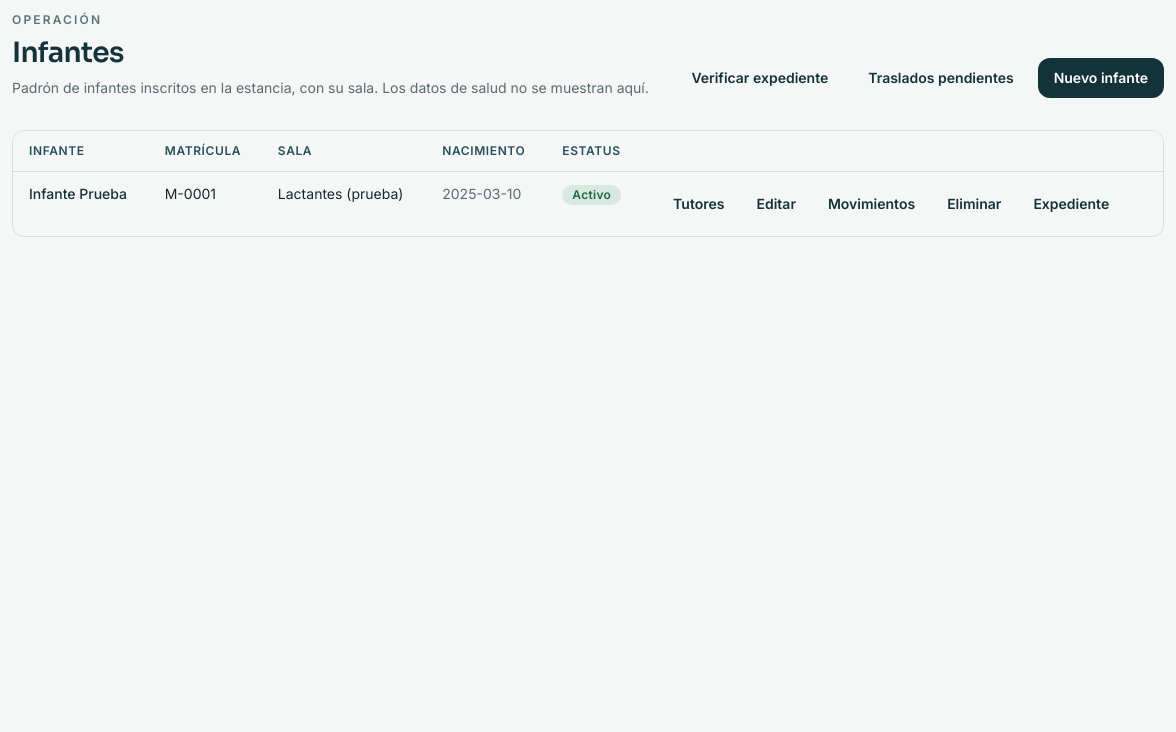
Test case: expediente para traslados (RF-19) › pide folio y sello antes de enviar
Step 1. Click the button "Verificar expediente" → (760, 78), box [675,58,844,98]
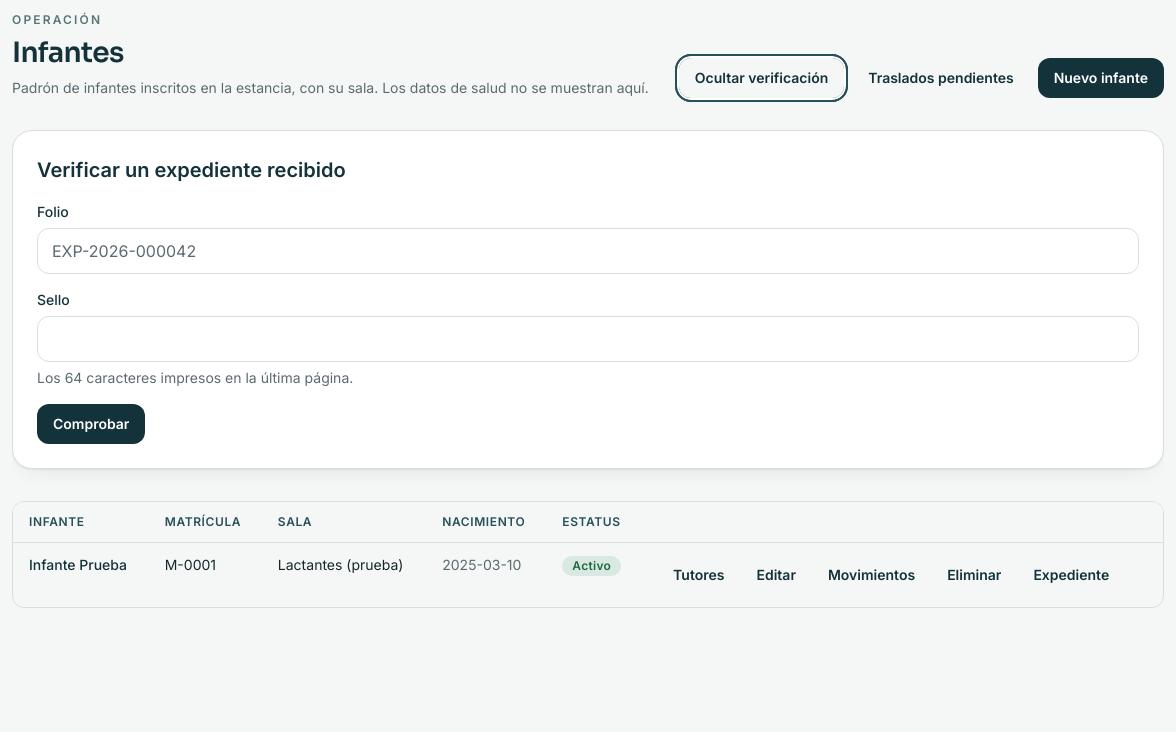
Step 2. Click the button "Comprobar" → (91, 424), box [37,404,145,444]
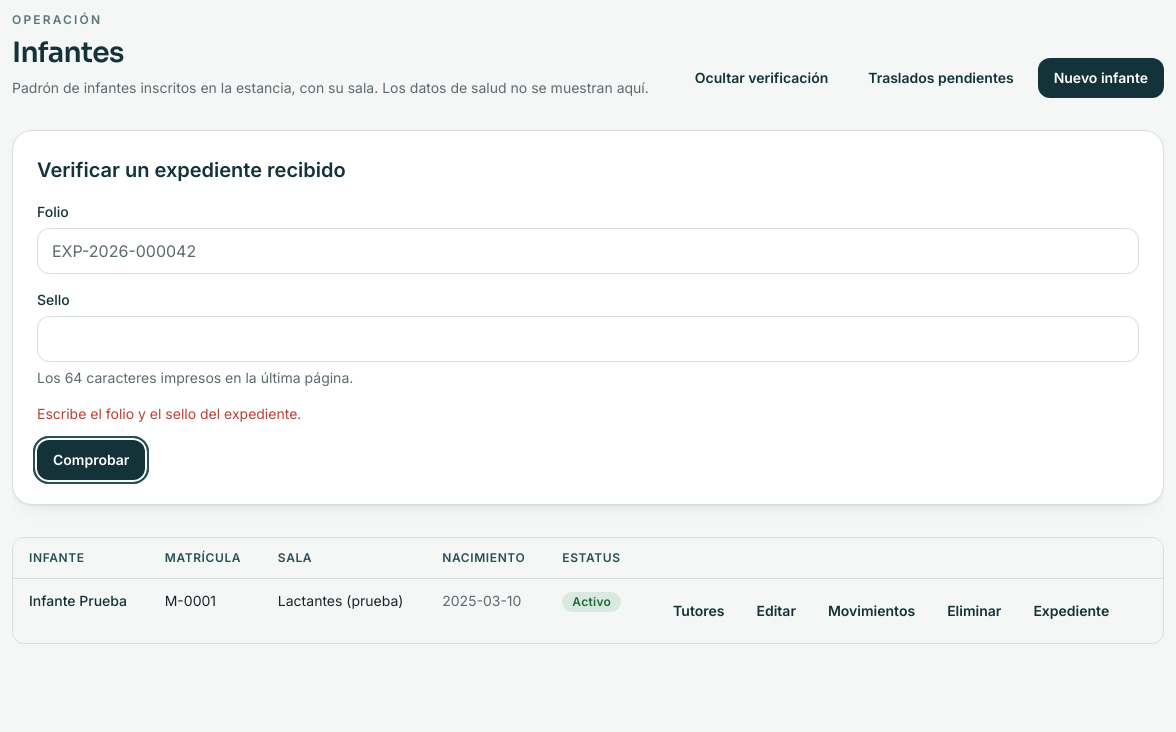
expect the message reads "Escribe el folio y el sello del expediente.": met, box [37,405,301,422]
